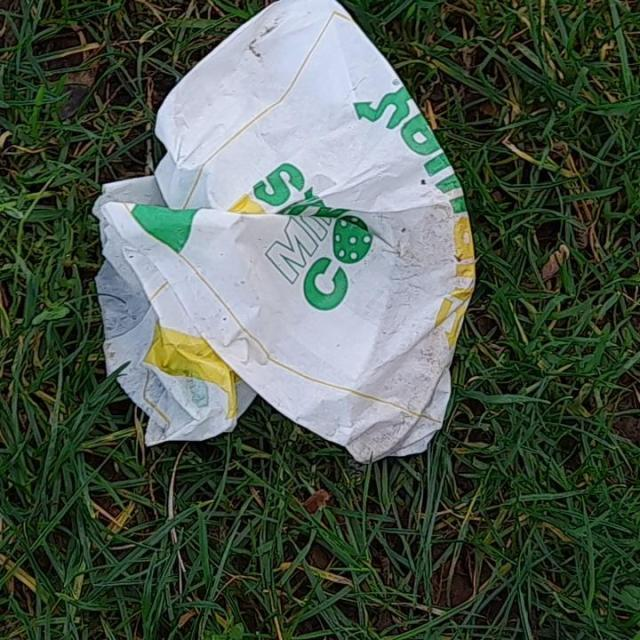Paper: (86, 0, 477, 467)
